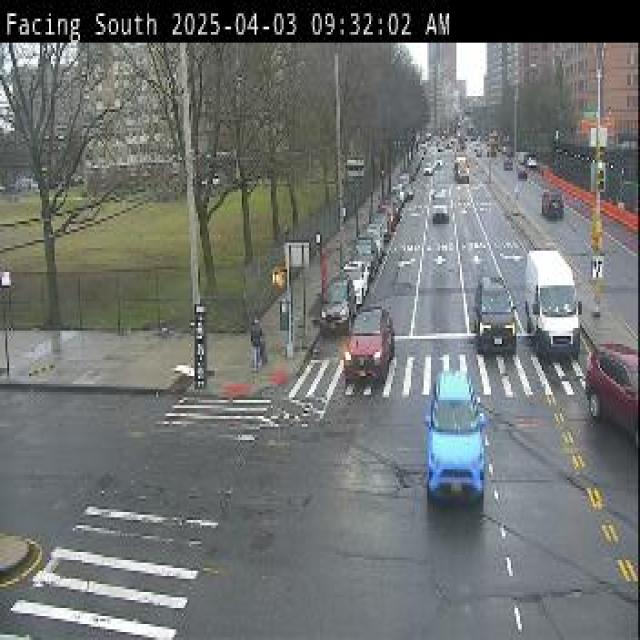parkedCars: (318, 148, 414, 320)
